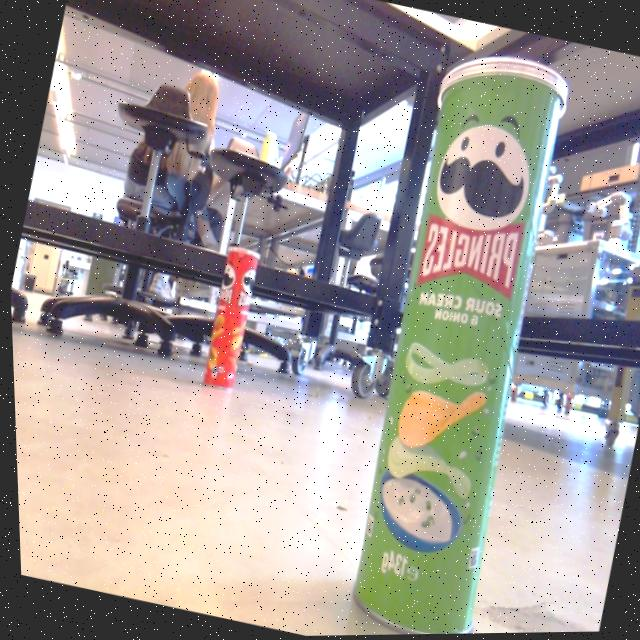greenpringles: (289, 27, 614, 637)
redpringles: (182, 229, 277, 404)
